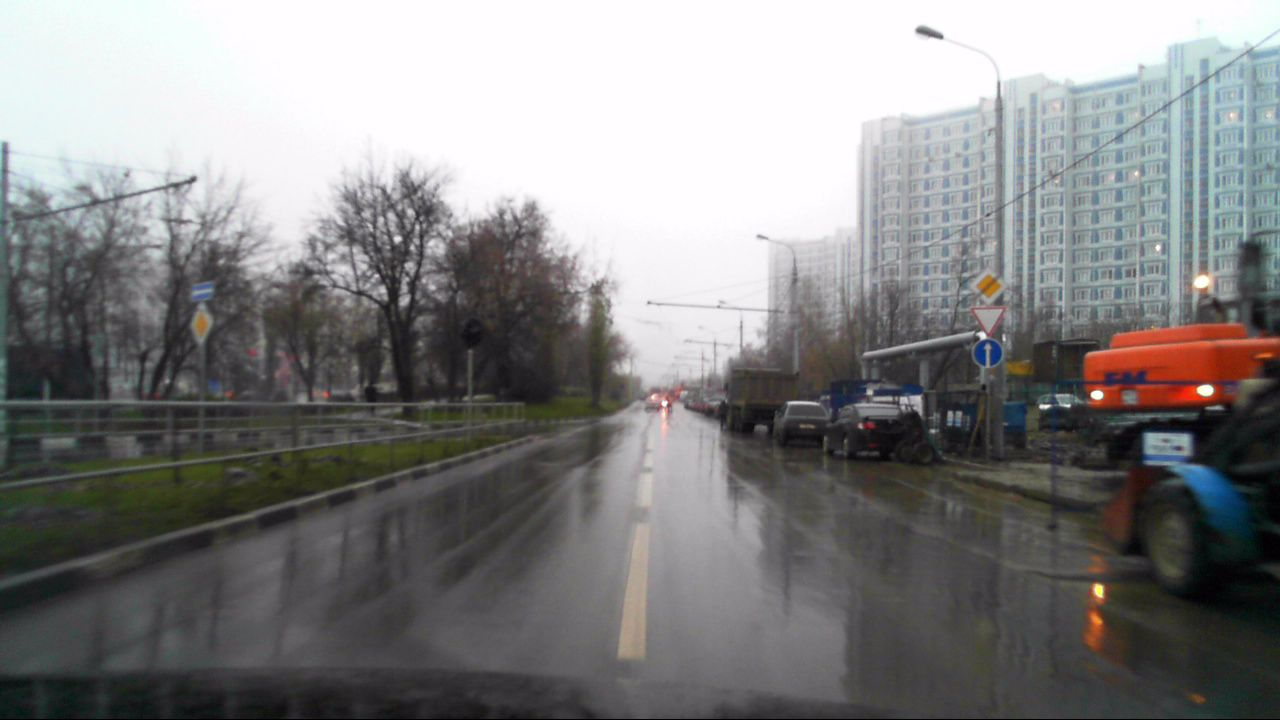main road: (969, 267, 1005, 305)
